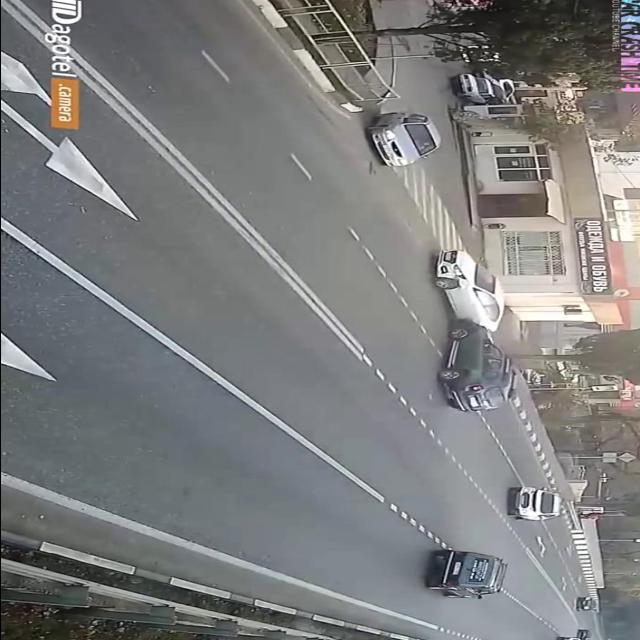accident: (432, 244, 524, 416)
